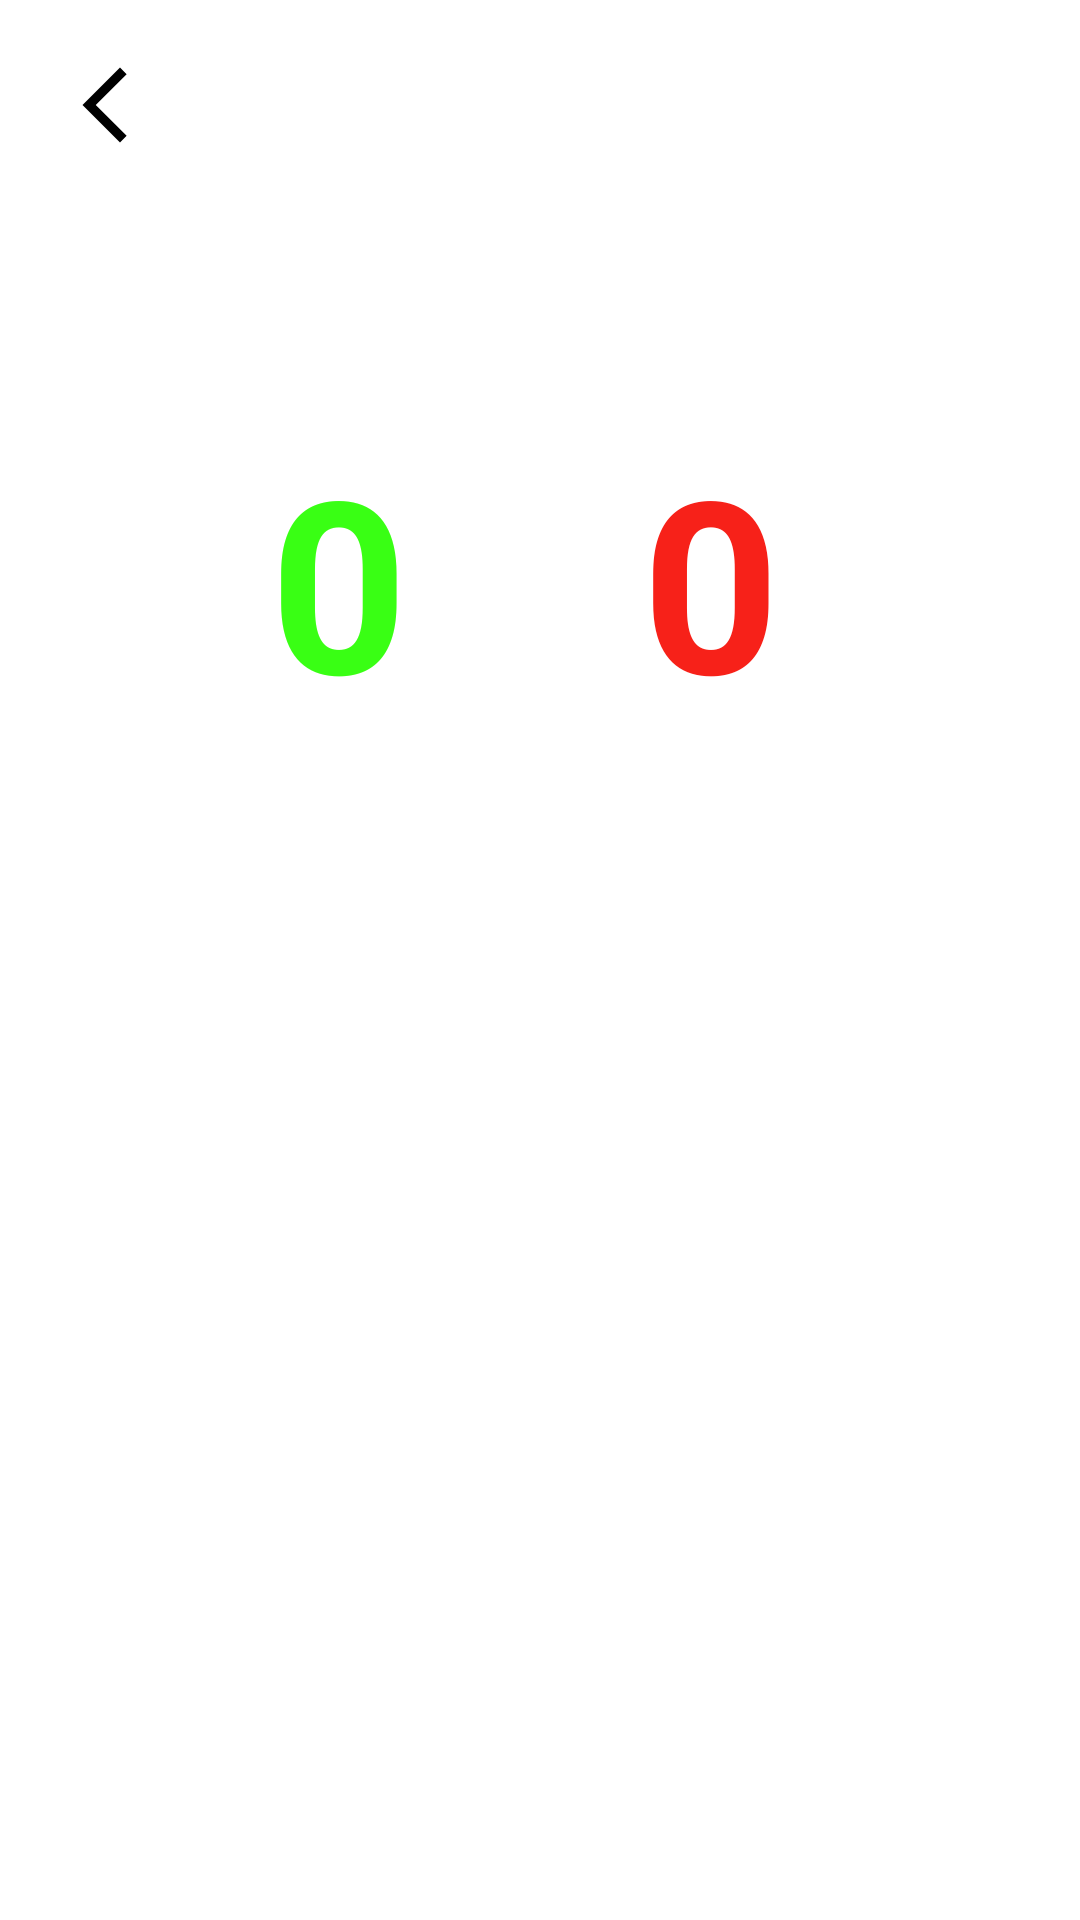

Icons on this 1080px×1920px Android screen, each with its box as bbox=(x1, y1, x2, y2):
arrow back: bbox=(82, 67, 127, 143)
